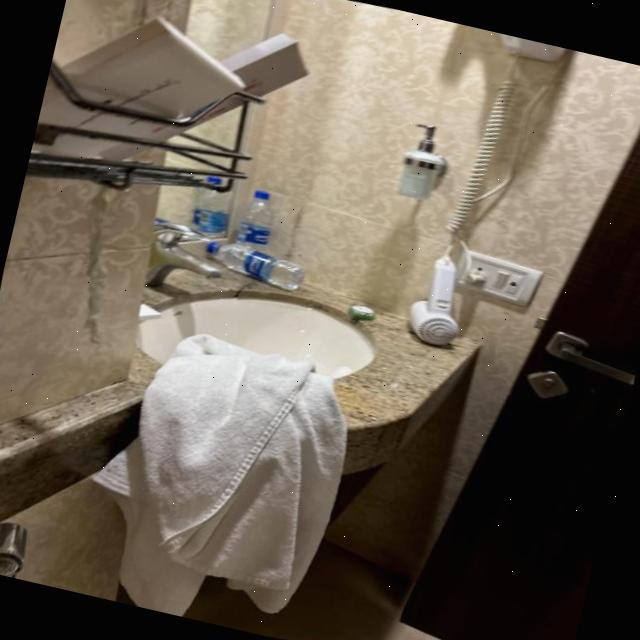disorganized_towel: (94, 327, 350, 618)
mess: (27, 0, 319, 221), (199, 188, 492, 358)
messy_sink: (104, 164, 426, 488)
